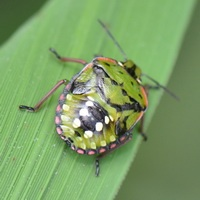insect: (49, 19, 178, 175)
